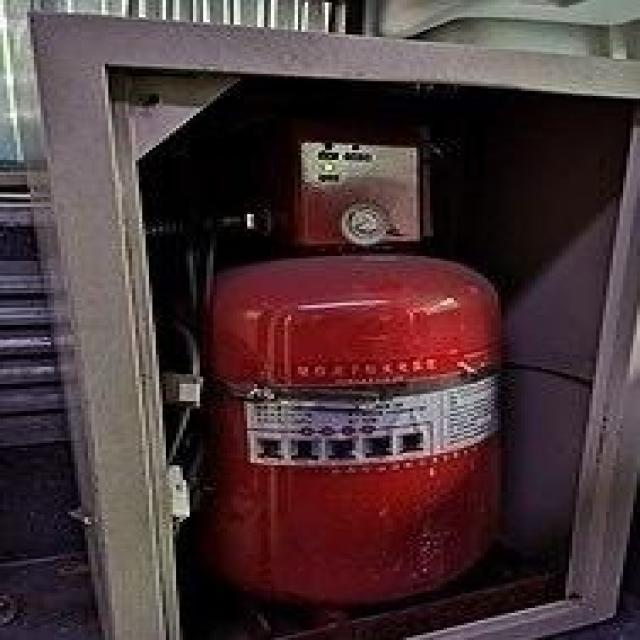fire_extinguisher: (132, 240, 515, 612)
